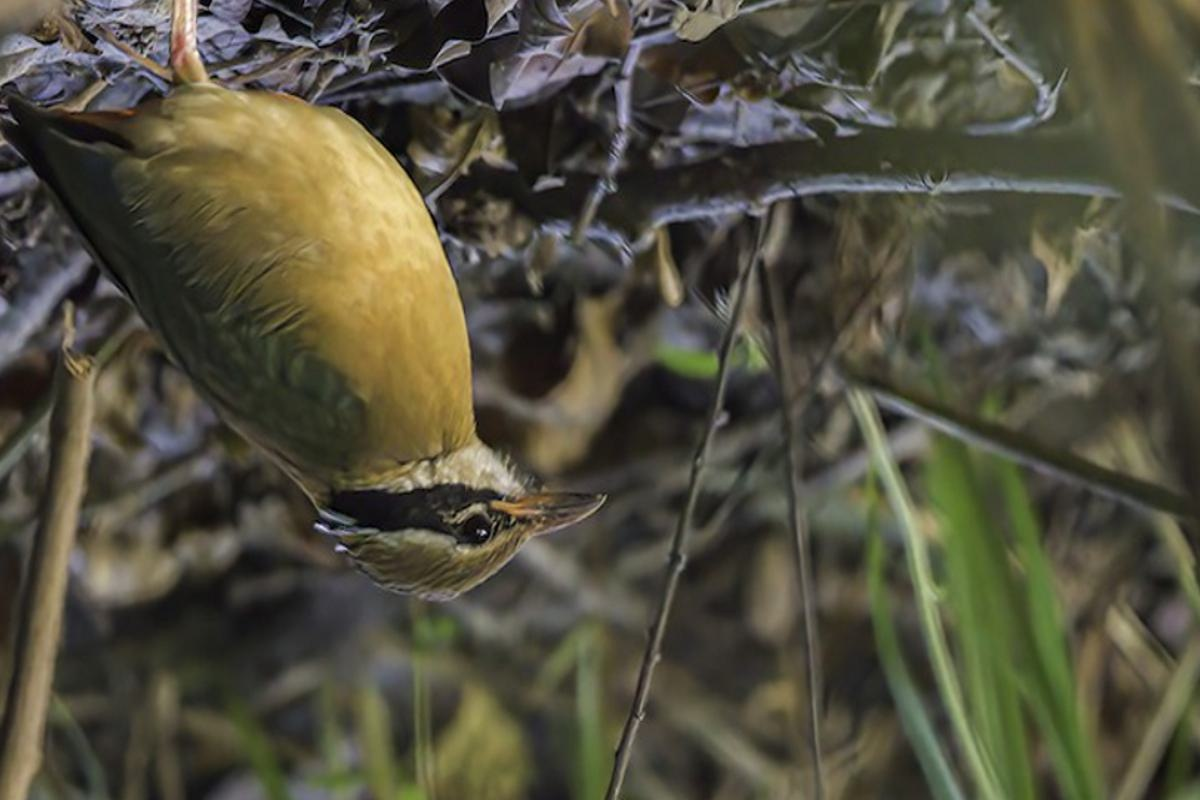pitta: (1, 1, 586, 592)
